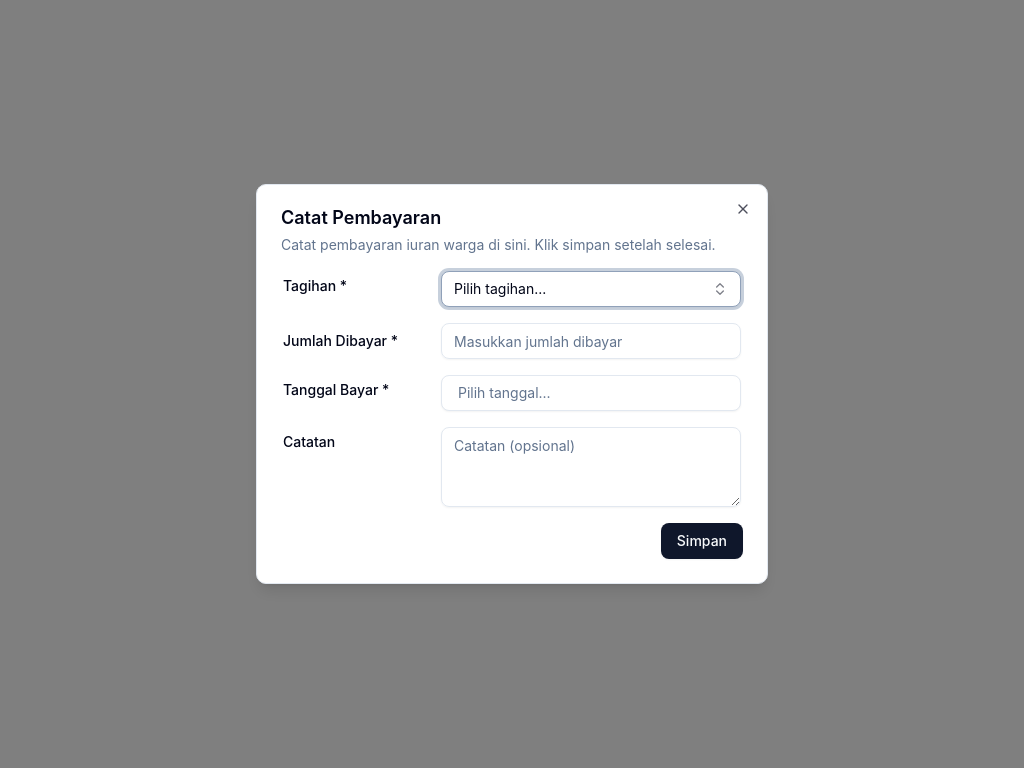
Test: PaymentFormDialog › mengisi nominal sisa tagihan saat bill dipilih
Click the dropdown.
click(500, 288)  # box [441,271,741,307]
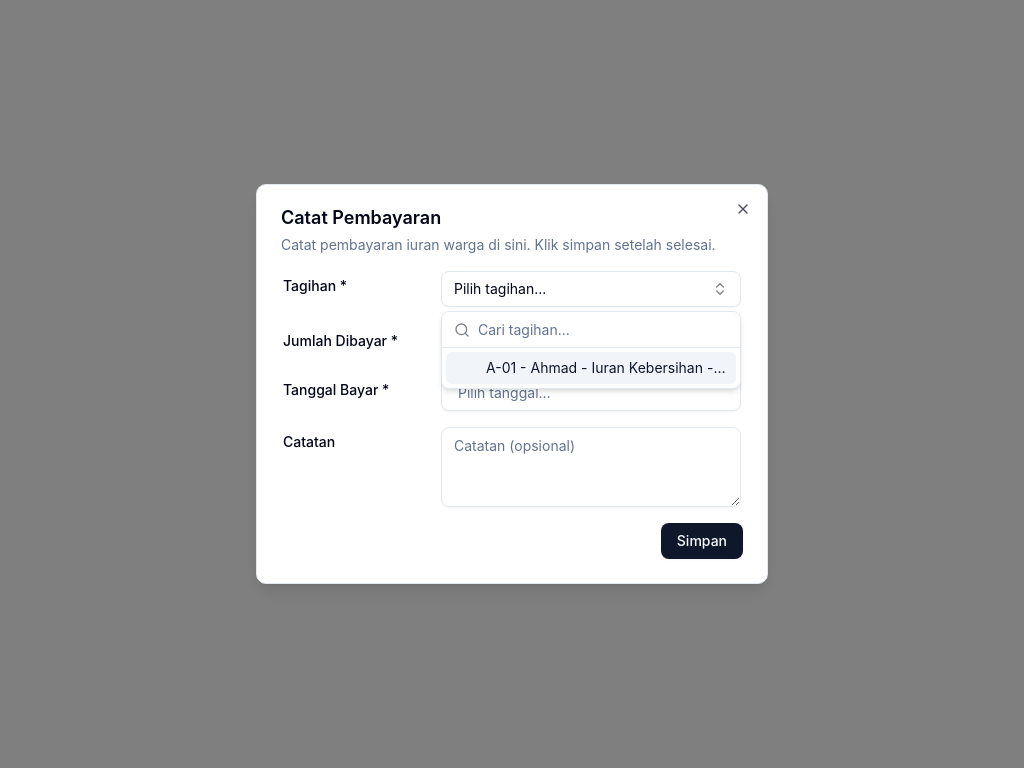
Click the option "A-01 - Ahmad - Iuran Kebersihan - Januari 2026".
click(591, 368)  # box [446,352,736,384]
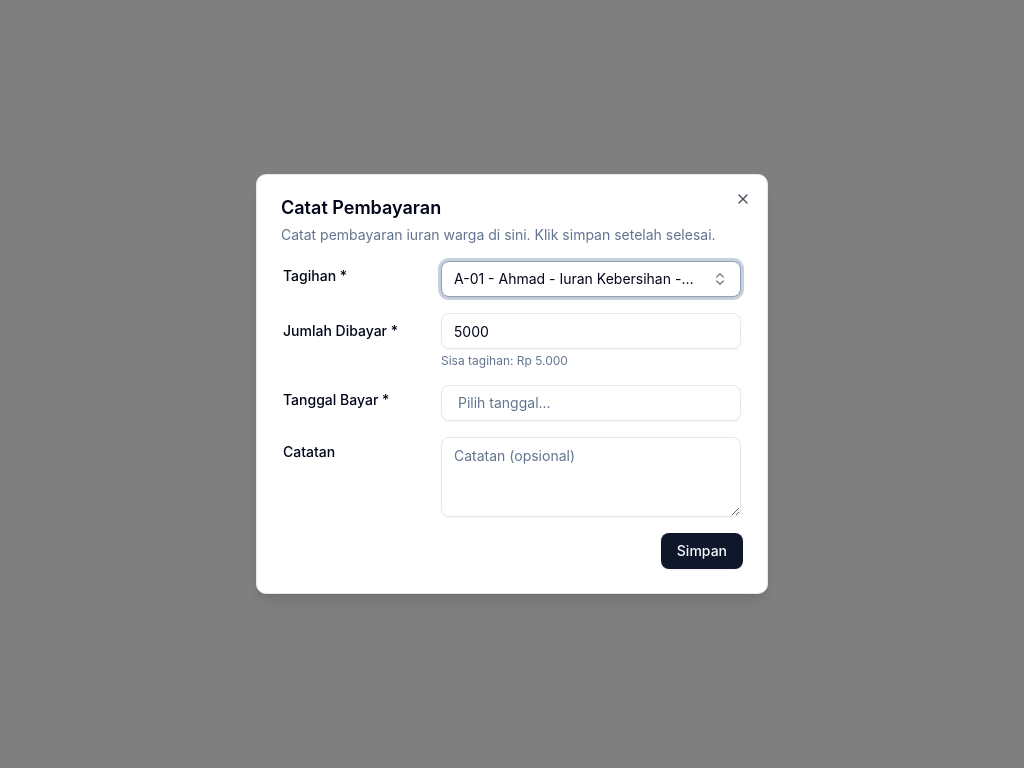
Expected: the number field holds "5000", [441,313,741,349]
